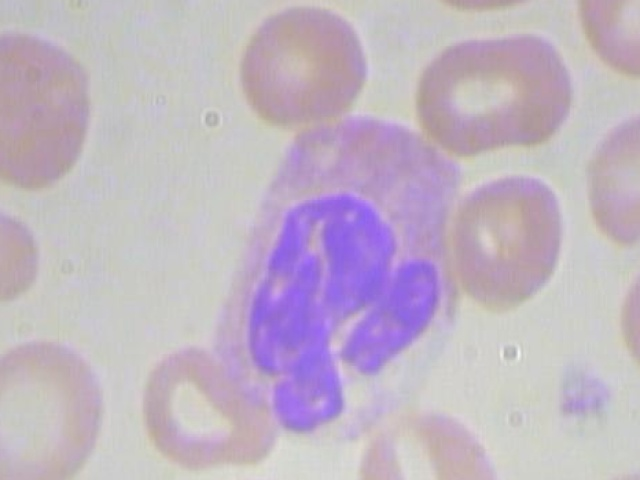RBC: (413, 21, 576, 161), (129, 336, 283, 478), (222, 0, 385, 132), (443, 170, 577, 319), (0, 28, 104, 195), (0, 329, 109, 480), (347, 407, 506, 480), (575, 90, 640, 249), (573, 0, 640, 89), (611, 228, 640, 401), (400, 0, 575, 26), (566, 452, 640, 480), (185, 471, 326, 480)
WBC: (209, 104, 500, 443)
